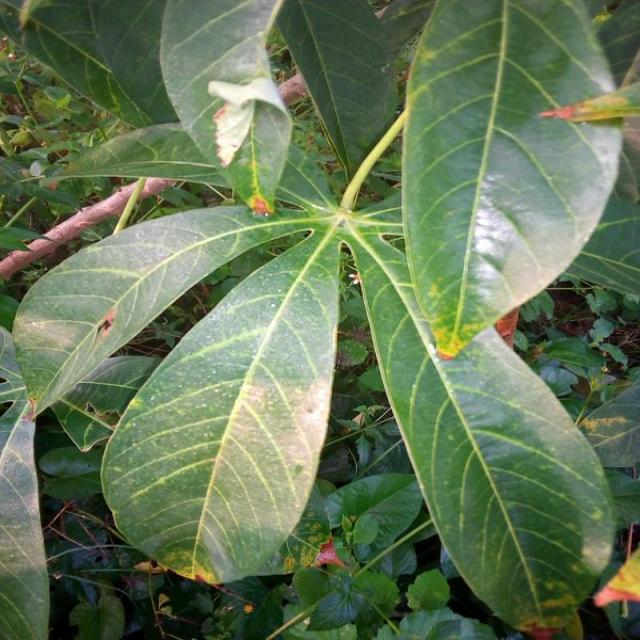cassava leaf: (5, 1, 634, 635), (342, 188, 617, 634), (98, 223, 341, 586), (400, 0, 623, 358)
